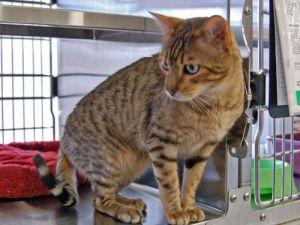bengal: (147, 7, 241, 108)
